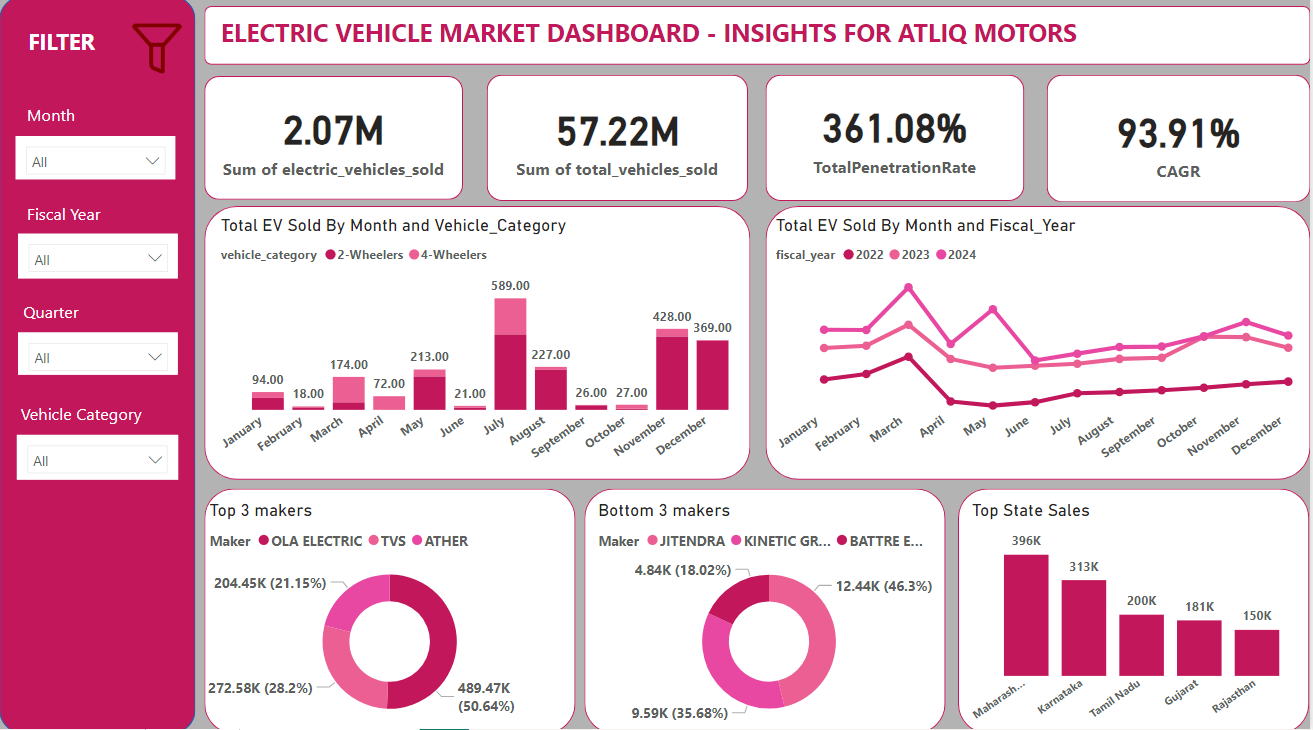

What the dashboard file says about the page in this screenshot:
{"tool":"powerbi","page":{"name":"Dashboard","canvas":[1280,720],"ordinal":1},"visuals":[{"type":"shape","box":[0,0,191.5,719.5],"z":0},{"type":"shape","box":[747.6,78,252.4,123.2],"z":6000},{"type":"shape","box":[1019.5,76.8,257.3,124.4],"z":7000},{"type":"card","fields":{"Values":["electric_vehicle_sales_by_state.CAGRR"]},"box":[1019.5,79.3,257.3,122],"z":8000},{"type":"shape","box":[470.7,79.3,254.9,123.2],"z":9000},{"type":"shape","box":[201.2,79.3,252.4,120.7],"z":10000},{"type":"card","fields":{"Values":["electric_vehicle_sales_by_state.TotalPenetrationRate"]},"box":[748.8,74.4,252.4,124.4],"z":11000},{"type":"card","fields":{"Values":["Sum(electric_vehicle_sales_by_state.electric_vehicles_sold)"]},"box":[209.8,79.3,252.4,120.7],"z":12000},{"type":"card","fields":{"Values":["Sum(electric_vehicle_sales_by_state.total_vehicles_sold)"]},"box":[469.5,76.8,254.9,122],"z":13000},{"type":"shape","box":[201.2,206.1,532.9,267.1],"z":14000},{"type":"shape","box":[201.2,480.5,362.2,239],"z":15000},{"type":"shape","box":[572,480.5,352.4,239],"z":16000},{"type":"funnel","title":" Total Vehicles Sold By Vehicle_Category","fields":{"Y":["Sum(electric_vehicle_sales_by_state.total_vehicles_sold)"],"Category":["electric_vehicle_sales_by_state.vehicle_category"]},"box":[209.8,491.5,353.7,228],"z":17000},{"type":"shape","box":[936.6,480.5,342.7,239],"z":18000},{"type":"funnel","title":"Total EV Sold By Vehicle_Category","fields":{"Y":["Sum(electric_vehicle_sales_by_makers.electric_vehicles_sold)"],"Category":["electric_vehicle_sales_by_state.vehicle_category"]},"box":[572,500,352.4,219.5],"z":19000},{"type":"map","title":"Total EV Sold By State And Vehicle_Category","fields":{"Category":["electric_vehicle_sales_by_state.state"],"Size":["Sum(electric_vehicle_sales_by_state.electric_vehicles_sold)"],"Series":["electric_vehicle_sales_by_state.vehicle_category"]},"box":[209.8,214.6,514.6,257.3],"z":20000},{"type":"shape","box":[747.6,206.1,531.7,267.1],"z":21000},{"type":"ribbonChart","title":"Top 5 EV Sold By Maker And Quarter","fields":{"Category":["electric_vehicle_sales_by_makers.maker","dim_date.date.Variation.Date Hierarchy.Quarter"],"Y":["Sum(electric_vehicle_sales_by_makers.electric_vehicles_sold)"],"Series":["dim_date.date.Variation.Date Hierarchy.Quarter"]},"box":[758.5,213.4,520.7,258.5],"z":22000},{"type":"columnChart","title":"Top 5 Maker By CAGR","fields":{"Category":["electric_vehicle_sales_by_makers.maker"],"Y":["electric_vehicle_sales_by_state.CAGR"]},"box":[945.1,491.5,334.1,228],"z":23000},{"type":"shape","box":[200.7,9.8,1079.3,57.3],"z":24000},{"type":"textbox","box":[212.2,14.6,1035.4,52.4],"z":25000},{"type":"shape","box":[1.2,0,191.5,719.5],"z":25001},{"type":"slicer","fields":{"Values":["dim_date.date.Variation.Date Hierarchy.Month"]},"box":[17.1,136.6,156.1,42.7],"z":25002},{"type":"textbox","box":[23.2,100,74.4,36.6],"z":25003},{"type":"textbox","box":[23.2,196.3,100,32.9],"z":25004},{"type":"textbox","box":[24.4,24.4,98.8,50],"z":25005},{"type":"image","box":[117.1,22,75.6,58.5],"z":25006},{"type":"slicer","fields":{"Values":["dim_date.fiscal_year"]},"box":[19.5,231.7,156.1,43.9],"z":25007},{"type":"slicer","fields":{"Values":["dim_date.quarter"]},"box":[19.5,328,156.1,41.5],"z":25008},{"type":"slicer","fields":{"Values":["electric_vehicle_sales_by_makers.vehicle_category"]},"box":[18.3,428,157.3,43.9],"z":25009},{"type":"textbox","box":[19.5,291.5,74.4,36.6],"z":25010},{"type":"textbox","box":[17.1,391.5,146.3,36.6],"z":25011}]}

Visuals, with their boxes in screenshot pixels (x1, y1, x2, y2), scaled from the page's 1280x720 canvas onto the 1313x730 screenshot:
shape: (x1=0, y1=0, x2=196, y2=729)
shape: (x1=767, y1=79, x2=1026, y2=204)
shape: (x1=1046, y1=78, x2=1310, y2=204)
card - electric_vehicle_sales_by_state.CAGRR: (x1=1046, y1=80, x2=1310, y2=204)
shape: (x1=483, y1=80, x2=744, y2=205)
shape: (x1=206, y1=80, x2=465, y2=203)
card - electric_vehicle_sales_by_state.TotalPenetrationRate: (x1=768, y1=75, x2=1027, y2=202)
card - Sum(electric_vehicle_sales_by_state.electric_vehicles_sold): (x1=215, y1=80, x2=474, y2=203)
card - Sum(electric_vehicle_sales_by_state.total_vehicles_sold): (x1=482, y1=78, x2=743, y2=202)
shape: (x1=206, y1=209, x2=753, y2=480)
shape: (x1=206, y1=487, x2=578, y2=729)
shape: (x1=587, y1=487, x2=948, y2=729)
" Total Vehicles Sold By Vehicle_Category" funnel: (x1=215, y1=498, x2=578, y2=729)
shape: (x1=961, y1=487, x2=1312, y2=729)
"Total EV Sold By Vehicle_Category" funnel: (x1=587, y1=507, x2=948, y2=729)
"Total EV Sold By State And Vehicle_Category" map: (x1=215, y1=218, x2=743, y2=478)
shape: (x1=767, y1=209, x2=1312, y2=480)
"Top 5 EV Sold By Maker And Quarter" ribbonChart: (x1=778, y1=216, x2=1312, y2=478)
"Top 5 Maker By CAGR" columnChart: (x1=969, y1=498, x2=1312, y2=729)
shape: (x1=206, y1=10, x2=1312, y2=68)
textbox: (x1=218, y1=15, x2=1280, y2=68)
shape: (x1=1, y1=0, x2=198, y2=729)
slicer - dim_date.date.Variation.Date Hierarchy.Month: (x1=18, y1=138, x2=178, y2=182)
textbox: (x1=24, y1=101, x2=100, y2=138)
textbox: (x1=24, y1=199, x2=126, y2=232)
textbox: (x1=25, y1=25, x2=126, y2=75)
image: (x1=120, y1=22, x2=198, y2=82)
slicer - dim_date.fiscal_year: (x1=20, y1=235, x2=180, y2=279)
slicer - dim_date.quarter: (x1=20, y1=333, x2=180, y2=375)
slicer - electric_vehicle_sales_by_makers.vehicle_category: (x1=19, y1=434, x2=180, y2=478)
textbox: (x1=20, y1=296, x2=96, y2=333)
textbox: (x1=18, y1=397, x2=168, y2=434)
